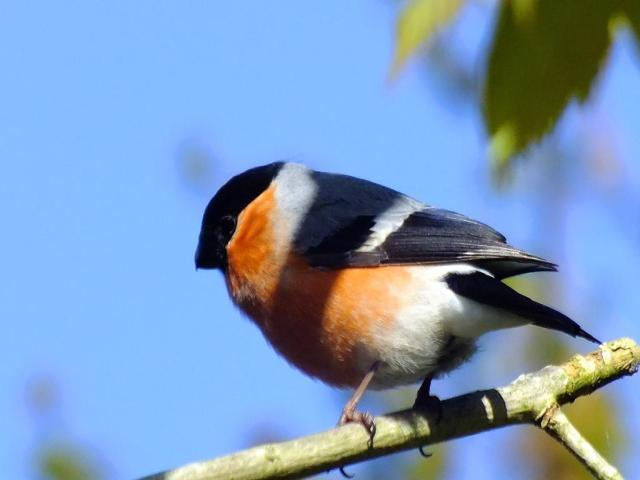Bird: (193, 158, 606, 480)
